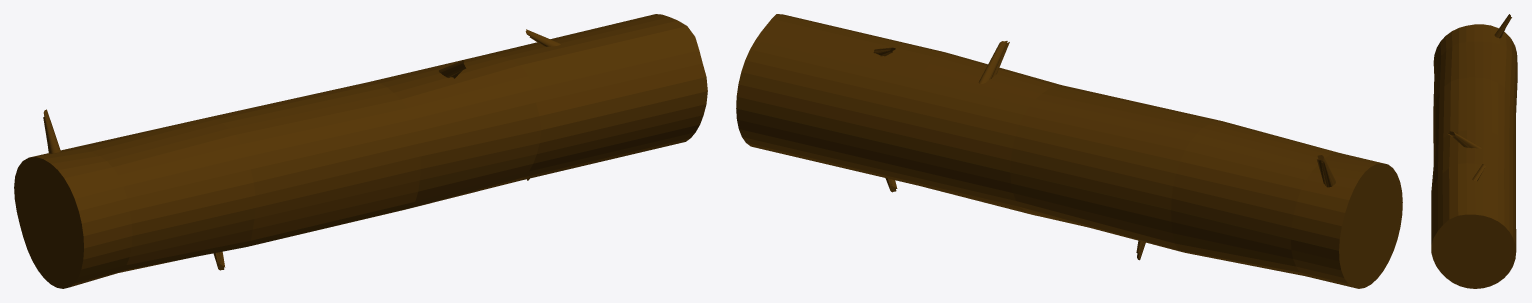
Rendered from treeTrunk.fbx.
The picture shows the model from 3 angles, left to right: view 1: azimuth 30°, elevation 25°; view 2: azimuth 150°, elevation 25°; view 3: azimuth 270°, elevation 25°; orthographic projection. The views are drawn at different scales.
Parts seen in each view (by area): view 1: Cylinder, Branches; view 2: Cylinder, Branches; view 3: Cylinder, Branches.
Part boxes in pixels (x1,y1,x2,y2): Cylinder: [14, 14, 707, 288]; Branches: [43, 29, 560, 270]; Cylinder: [736, 14, 1402, 288]; Branches: [873, 41, 1335, 260]; Cylinder: [1431, 24, 1517, 288]; Branches: [1447, 14, 1511, 180].
Size of the model in its own units: 1098 by 279 by 212.
